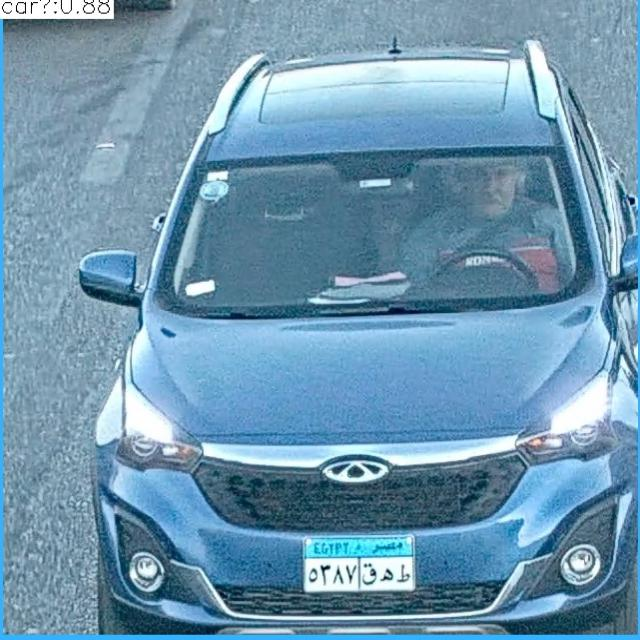windshield: (155, 145, 589, 311)
